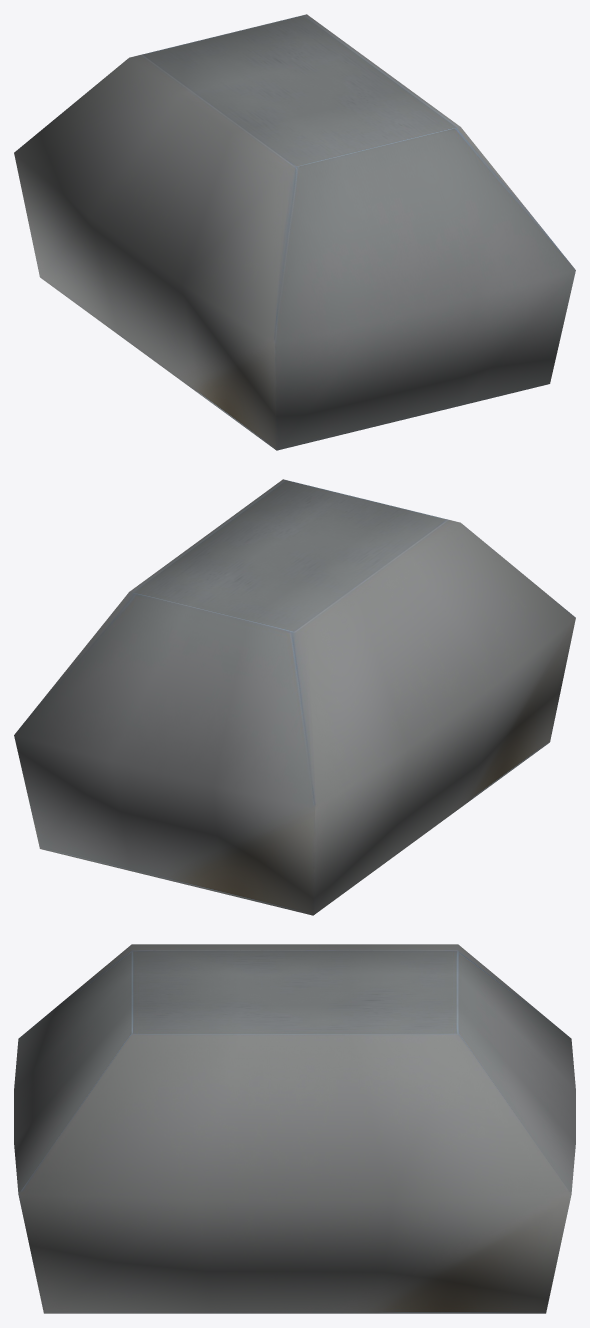
Rendered from flour-sack-unit-tripo-original.glb.
The picture shows the model from 3 angles, top to bottom: view 1: azimuth 30°, elevation 25°; view 2: azimuth 150°, elevation 25°; view 3: azimuth 270°, elevation 25°; orthographic projection. The views are drawn at different scales.
Visible parts, largest first — view 1: Authored_surface_005; view 2: Authored_surface_005; view 3: Authored_surface_005.
Boxes of the visible parts, x1,y1,x2,y2 form: Authored_surface_005: (14,14,575,450); Authored_surface_005: (14,479,575,915); Authored_surface_005: (14,944,575,1313).
Size of the model in its own units: 0.6933 by 0.4963 by 1.
1 material, 1 textured.
